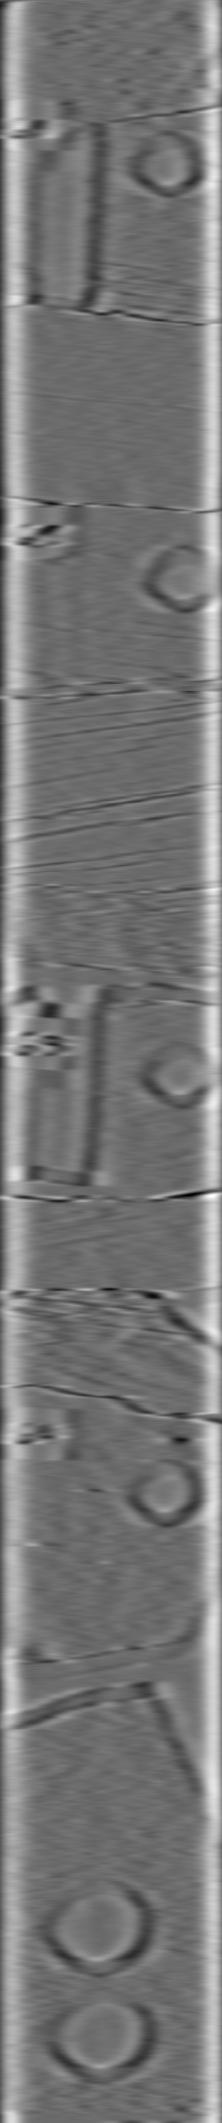hplug: (125, 1449, 208, 1530), (125, 125, 213, 199), (145, 538, 222, 617), (135, 1036, 217, 1112)
scal: (42, 1986, 160, 2091), (42, 1875, 156, 1979)
vplug: (23, 119, 106, 324), (22, 997, 103, 1187), (28, 502, 87, 699)
